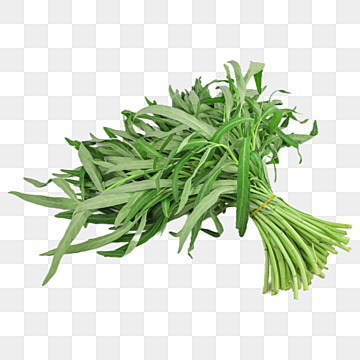Kangkung: (41, 62, 360, 337)
